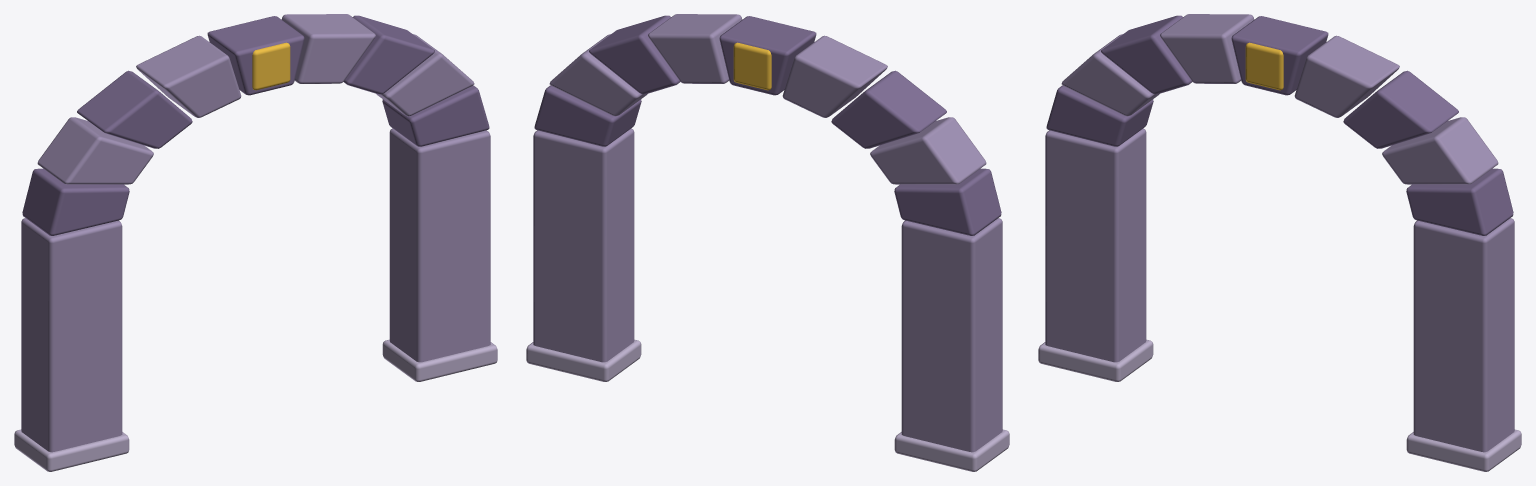
The model's file is arco_porta.glb.
3 views of the same model, side by side, from view 1: azimuth 30°, elevation 25°; view 2: azimuth 150°, elevation 25°; view 3: azimuth 330°, elevation 25° (orthographic).
Parts seen in each view (by area): view 1: Arco; view 2: Arco; view 3: Arco.
Boxes of the visible parts, x1,y1,x2,y2 form: Arco: (14,14,497,471); Arco: (526,14,1009,471); Arco: (1038,14,1521,471).
Bounding box in the file's own units: 3.06 × 2.42 × 0.42.
